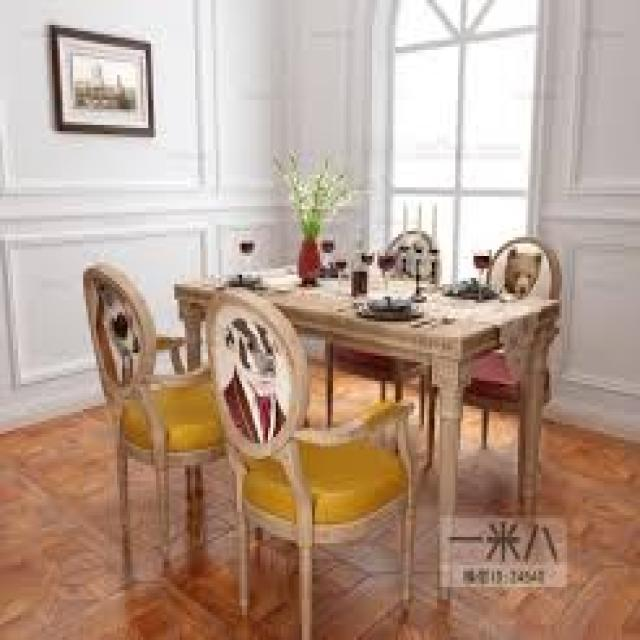table: (82, 234, 590, 636)
